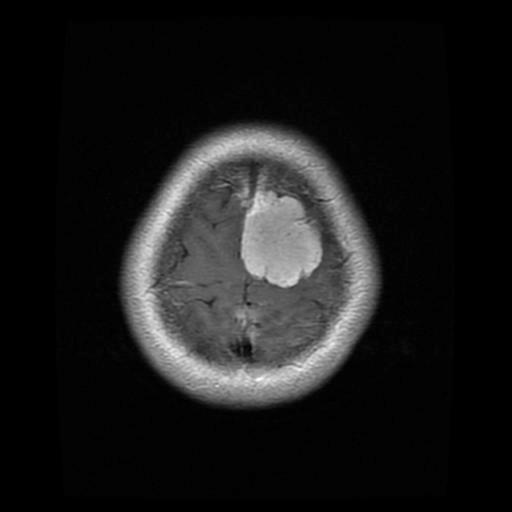Tumour-Pituitary: (231, 185, 334, 304)
